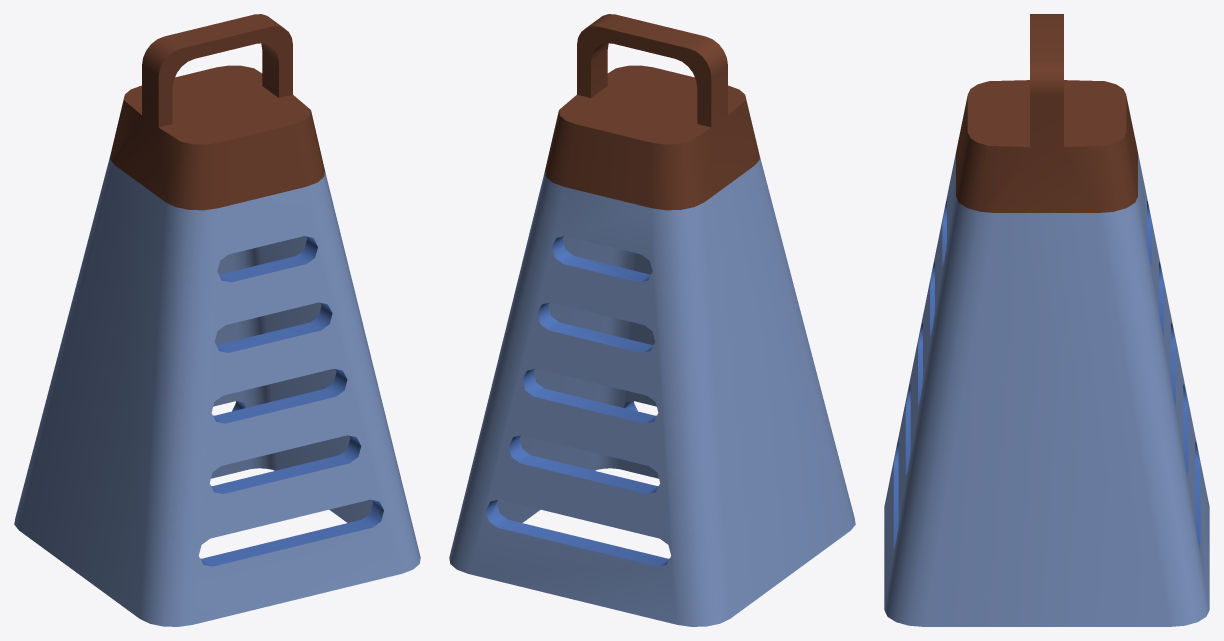
The model's file is Grater.fbx.
3 views of the same model, side by side, from view 1: azimuth 30°, elevation 25°; view 2: azimuth 150°, elevation 25°; view 3: azimuth 270°, elevation 25° (orthographic).
Visible parts, largest first — view 1: Grater; view 2: Grater; view 3: Grater.
Part boxes in pixels (x1,y1,x2,y2): Grater: (14, 14, 420, 626); Grater: (449, 14, 855, 626); Grater: (884, 14, 1209, 626).
Size of the model in its own units: 0.3802 by 0.6765 by 0.3802.
